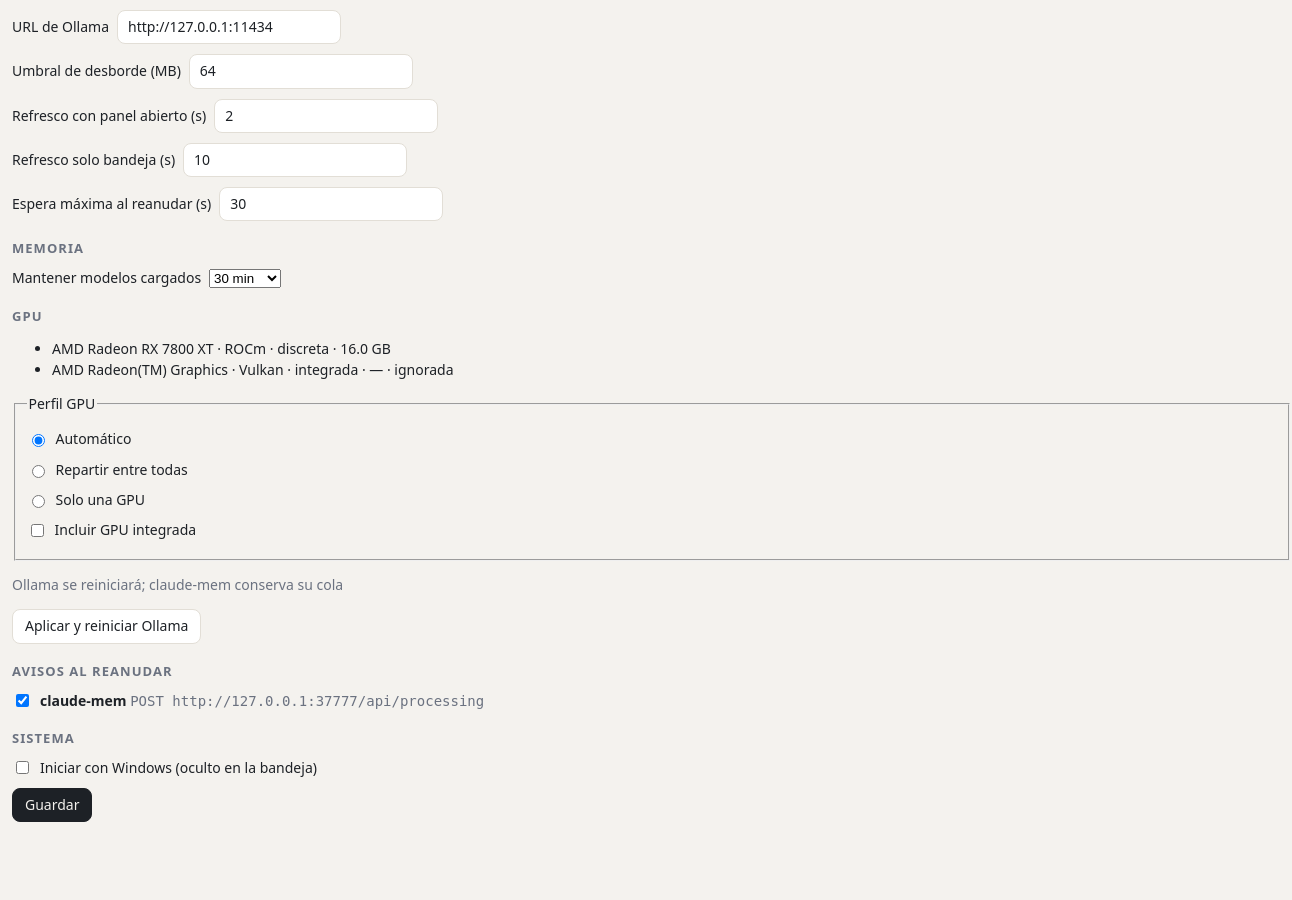
Test case: impide guardar ajustes mientras el perfil GPU se aplica
Step 1. Click the button "Aplicar y reiniciar Ollama" → (107, 627), box [12,610,201,644]
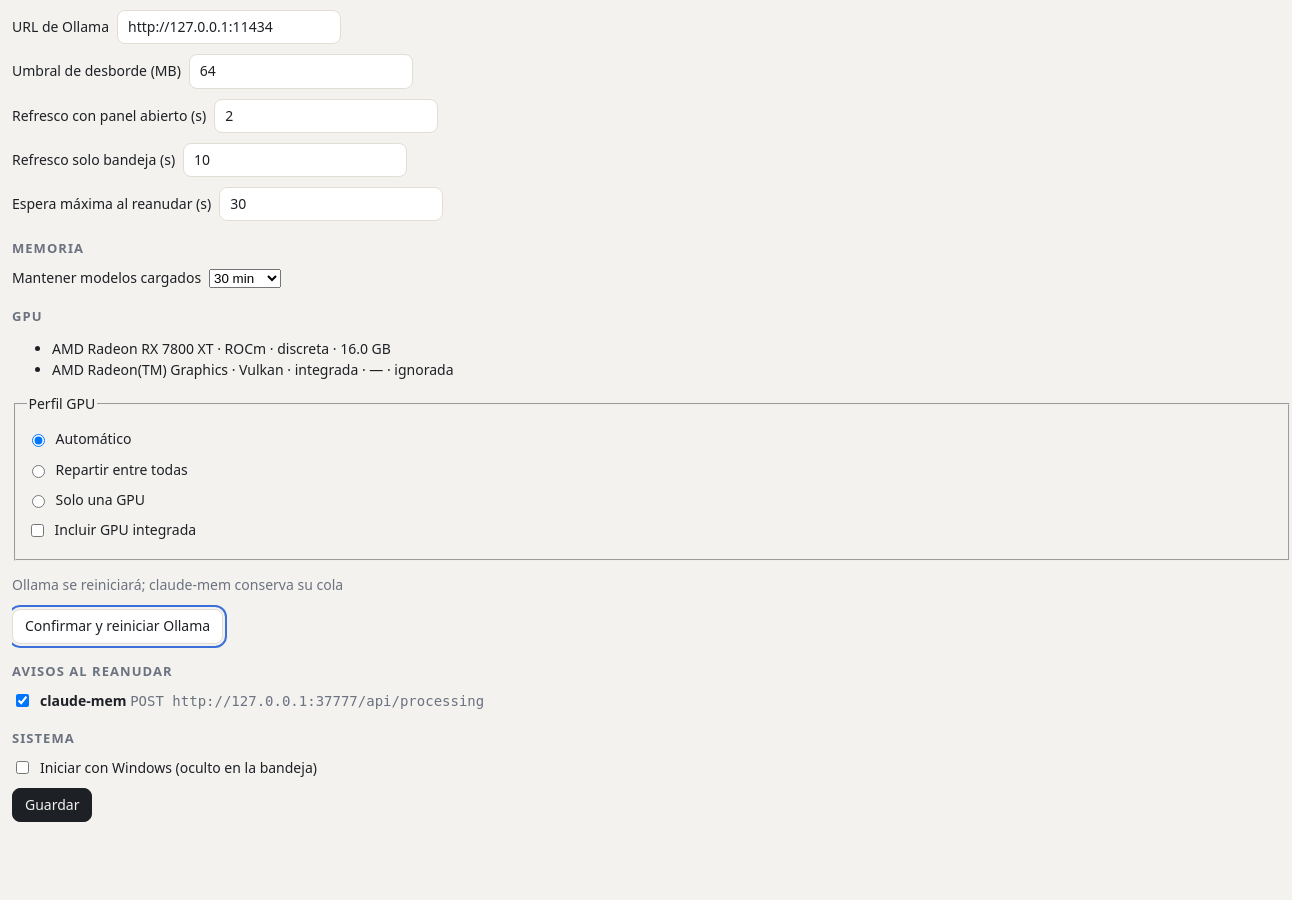
Step 2. Click the button "Confirmar y reiniciar Ollama" → (118, 627), box [12,610,223,644]
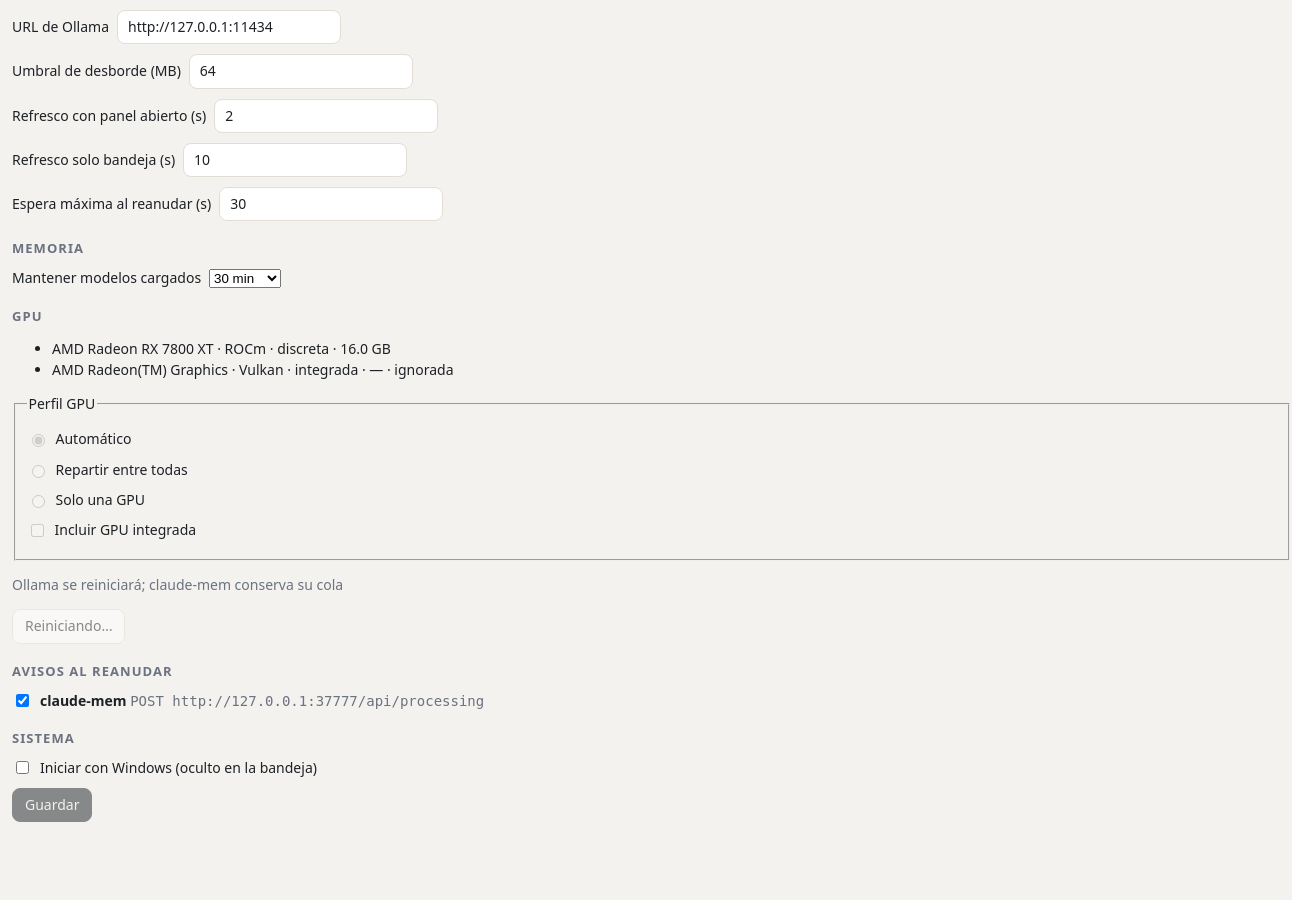
expect the button "Guardar" is disabled: met
Step 3. Click the button "Guardar" → (52, 805), box [12,788,92,822]
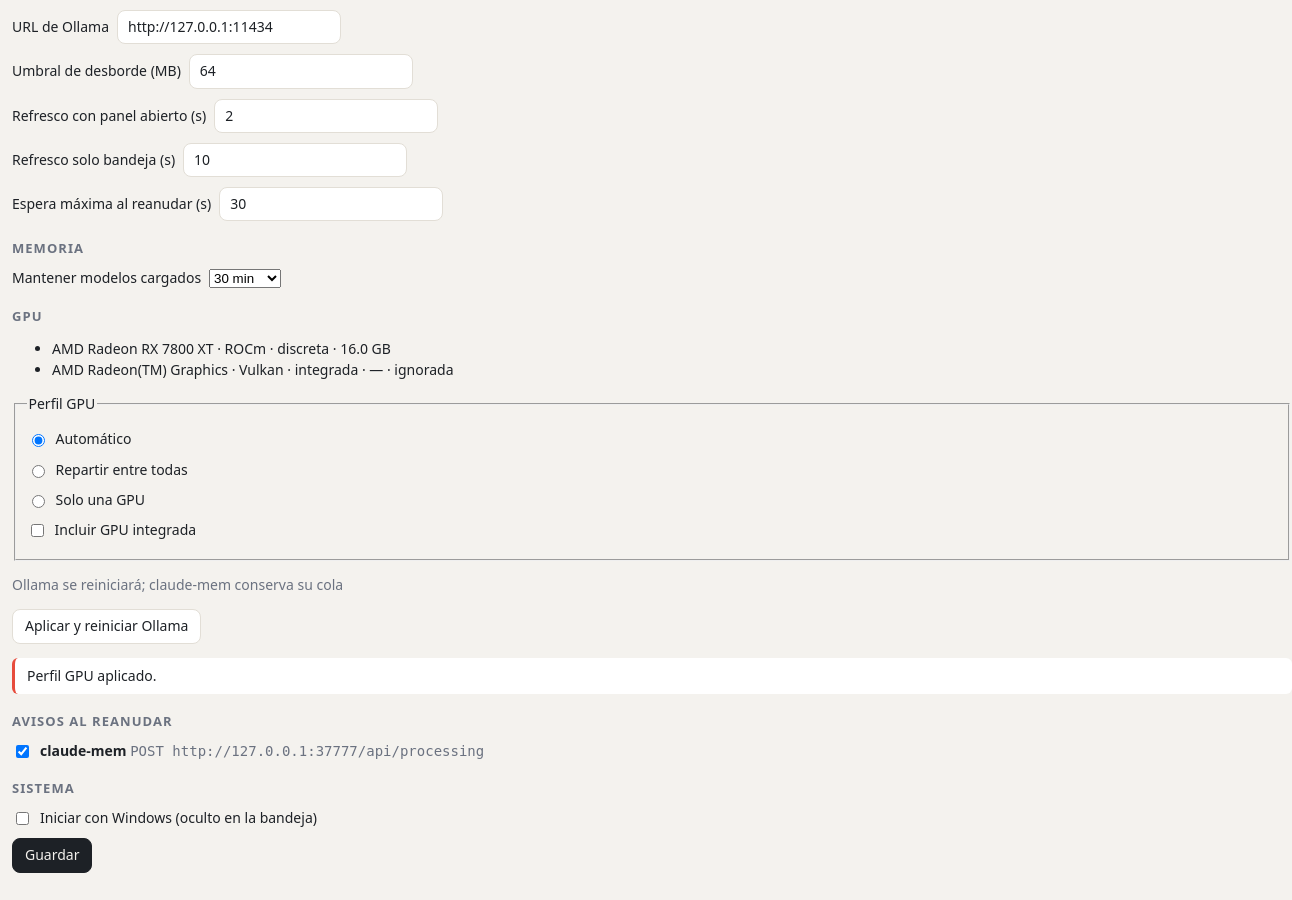
expect the button "Guardar" is enabled: met, box [12,838,92,873]
